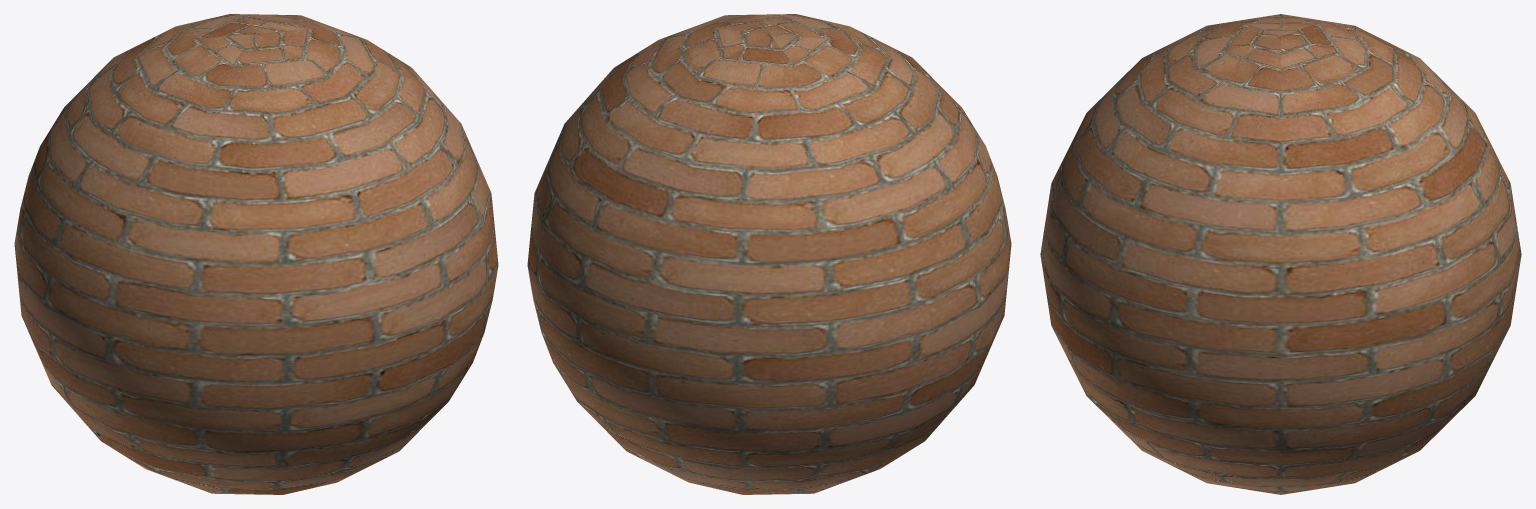
The model's file is sphereTEX.obj.
3 renders of one model, left to right at view 1: azimuth 30°, elevation 25°; view 2: azimuth 150°, elevation 25°; view 3: azimuth 270°, elevation 25°, orthographic.
Parts seen in each view (by area): view 1: GeoSphere001; view 2: GeoSphere001; view 3: GeoSphere001.
Part boxes in pixels (box(x1,y1,x2,y2)): GeoSphere001: box(14, 14, 498, 494); GeoSphere001: box(527, 14, 1011, 494); GeoSphere001: box(1040, 14, 1521, 494).
Bounding box in the file's own units: 7.87 × 7.87 × 7.87.
